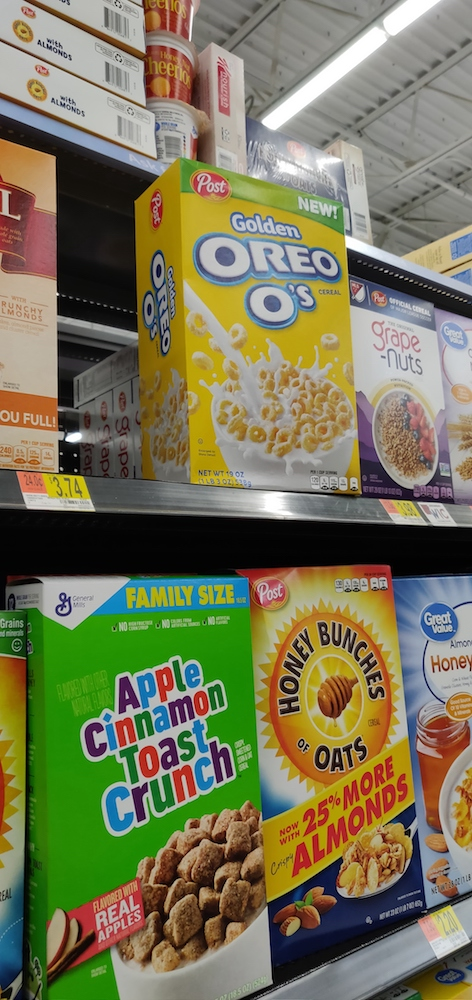Oreo Golden-568301011: (130, 171, 364, 494)
